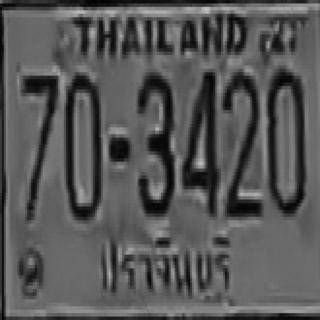N00: (266, 65, 304, 213), (64, 69, 101, 217)
N02: (222, 69, 259, 213)
N03: (136, 69, 173, 213)
N04: (180, 67, 217, 212)
N07: (20, 70, 57, 218)
P49: (94, 230, 233, 298)
